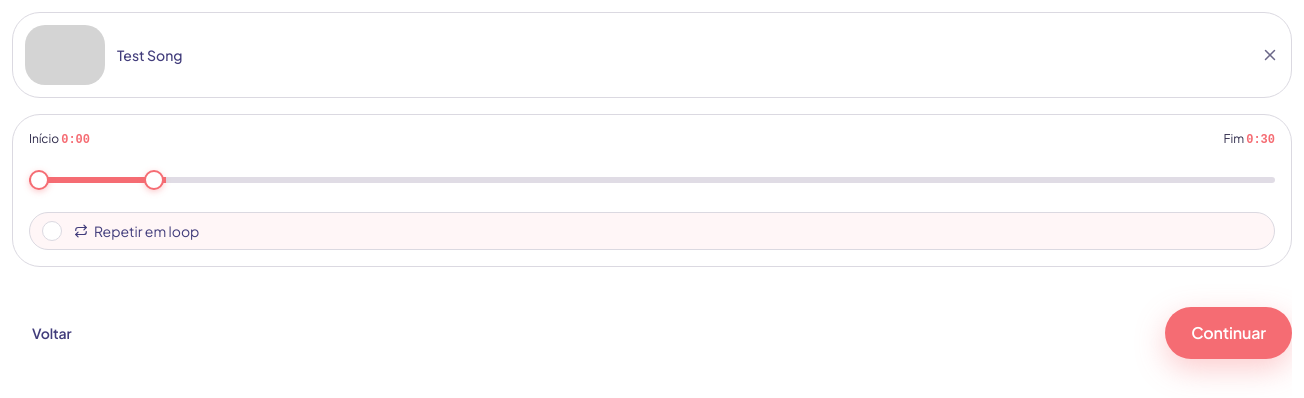
Test: Step3Musica › should remove track when remove button is clicked
The image size is (1304, 398).
Click the button named "Remover música".
click(1270, 55)  # box x1=1261 y1=46 x2=1279 y2=64
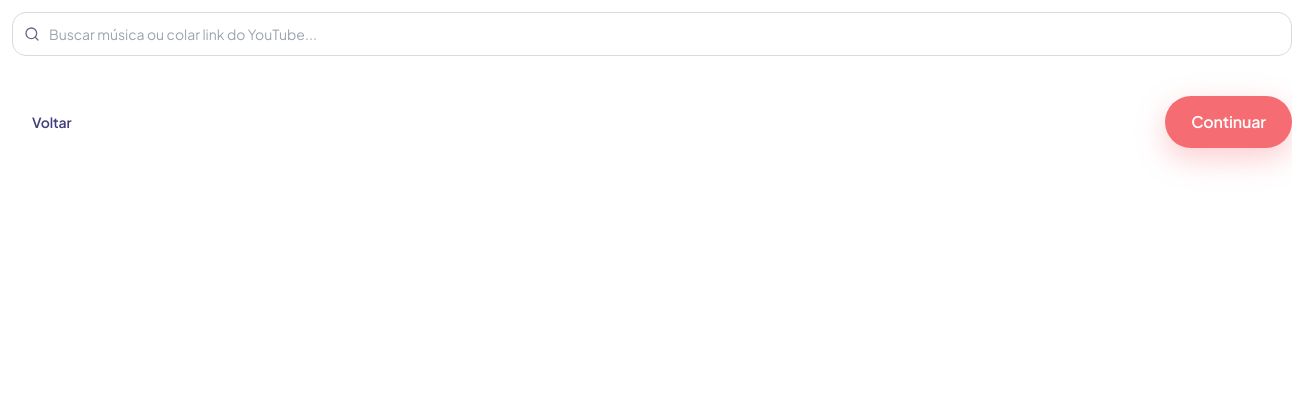
Expected: the field with placeholder "Buscar música ou colar link do YouTube..." is shown, x1=12 y1=12 x2=1292 y2=56
